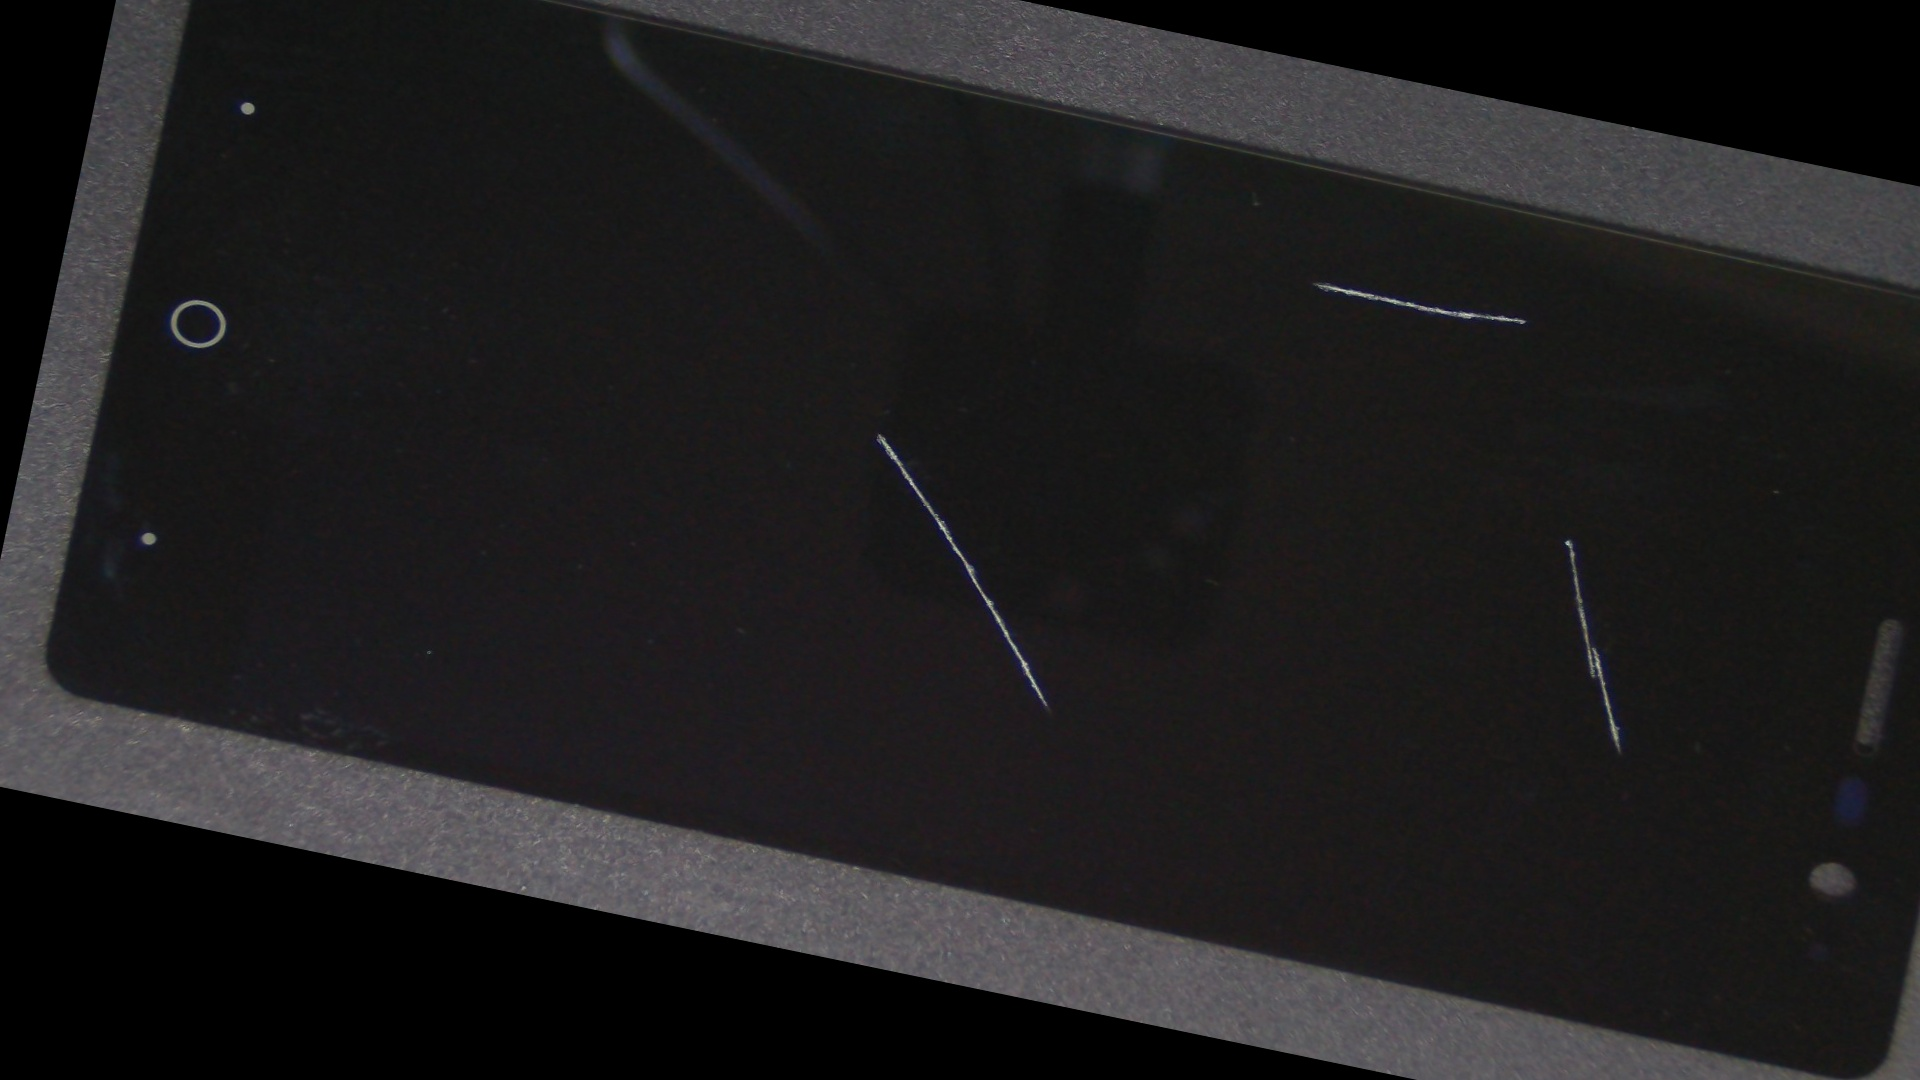oil: (778, 179, 1920, 839), (423, 124, 1332, 740), (798, 70, 1920, 535)
